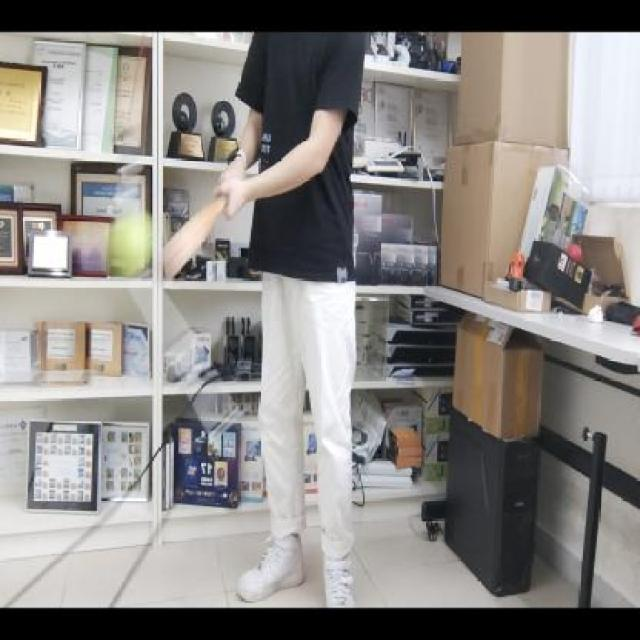baseball: (109, 213, 158, 284)
